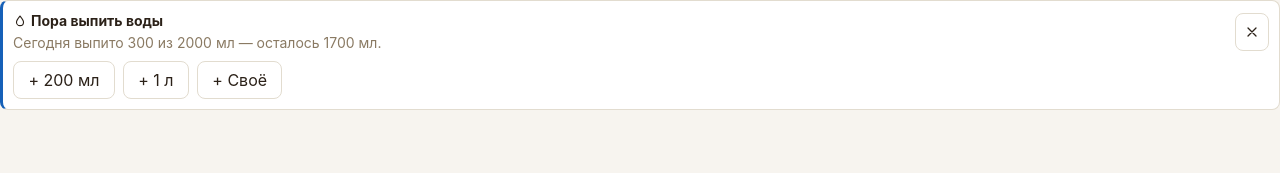
Scenario: WaterReminderBanner: быстрое добавление (BACKLOG 67.1) › «Своё» с неверным числом: подсказка, ничего не пишется, плашка остаётся
Click the button with test id "water-reminder-custom-toggle": {"x": 240, "y": 80} top-left (197, 61), bottom-right (282, 99)
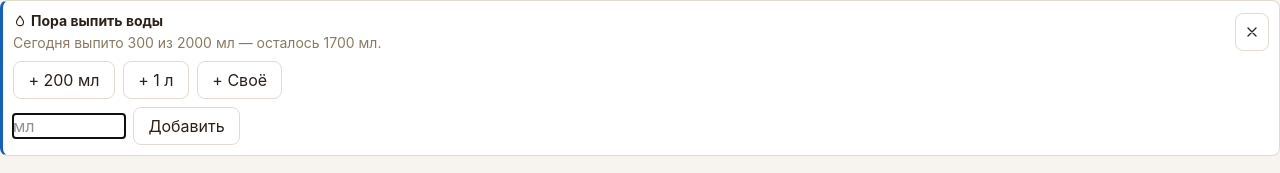
In the number field with test id "water-reminder-custom-input": {"x": 69, "y": 126} top-left (13, 114), bottom-right (125, 138), type "0"
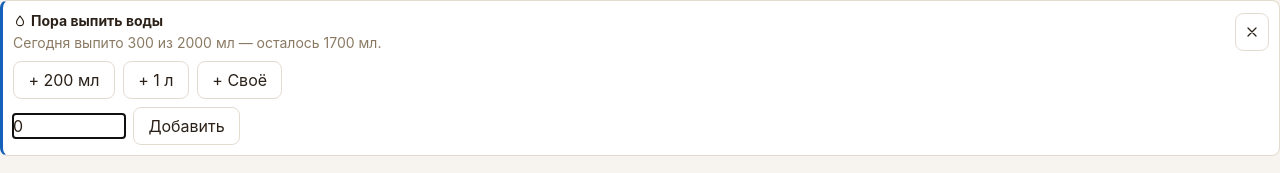
Submit the form with test id "water-reminder-custom", box top-left (13, 107), bottom-right (240, 145)
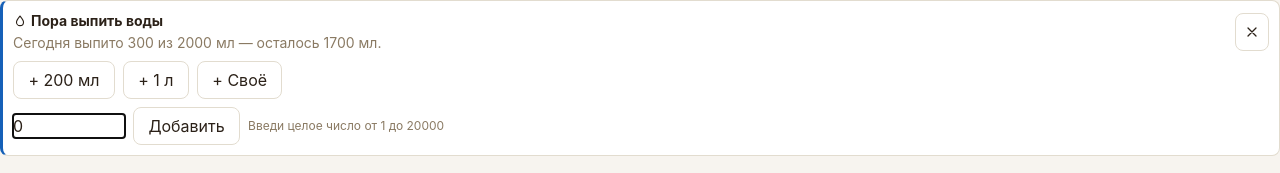
Expected: the text "Введи целое число от 1 до 20000" is shown, top-left (248, 118), bottom-right (444, 134)
